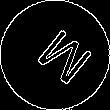M_SW: (21, 21, 89, 89)
